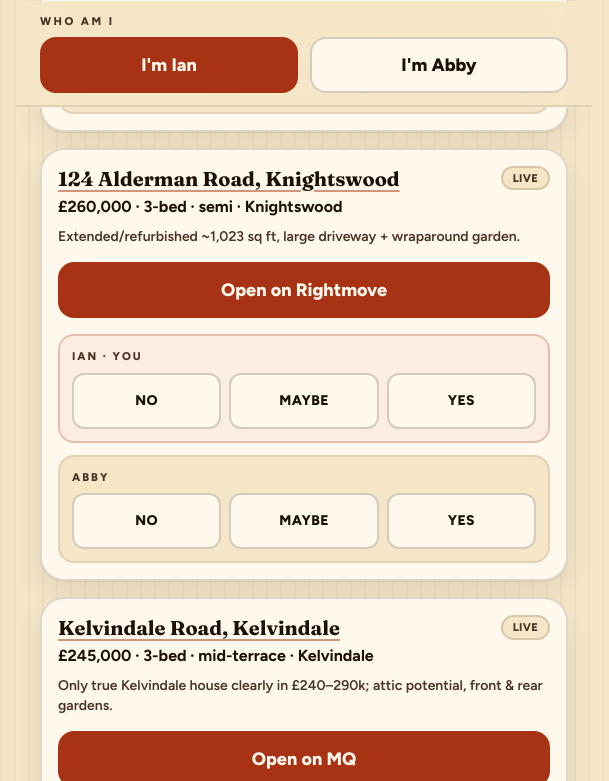
HomesScoper › shows Both open when both vote at least maybe
(page scrolled)
Step 1. Click the button with aria-label "ian: maybe" → {"x": 304, "y": 401}, box [229,373,379,429]
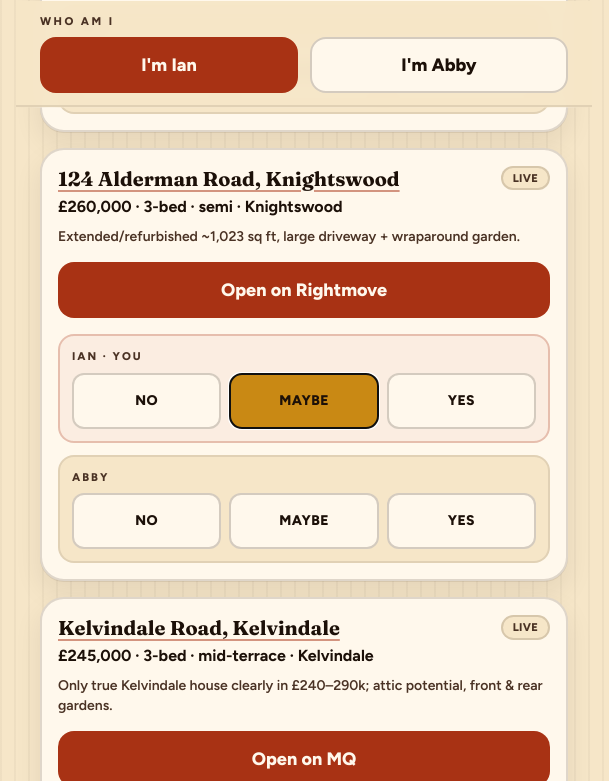
Step 2. Click the button with aria-label "abby: yes" → {"x": 461, "y": 522}, box [387,494,536,550]
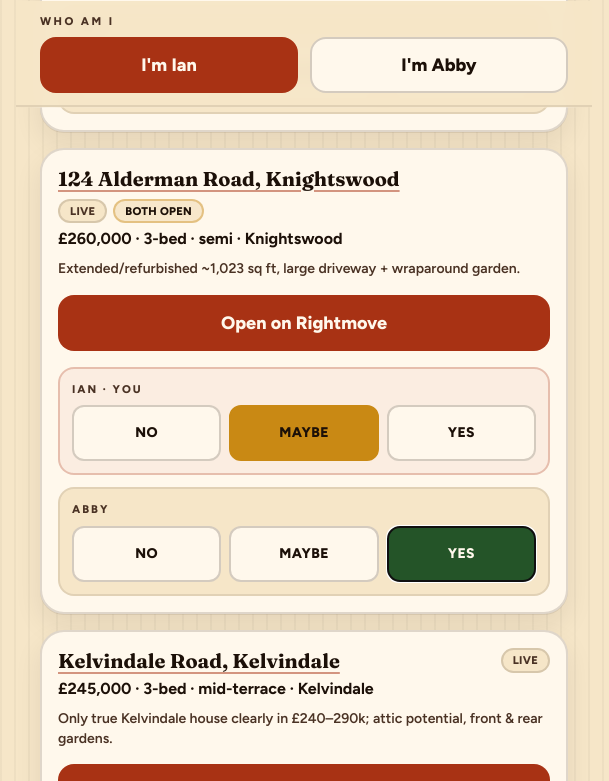
expect the text "Both open" is shown: met, box [113,199,204,223]
